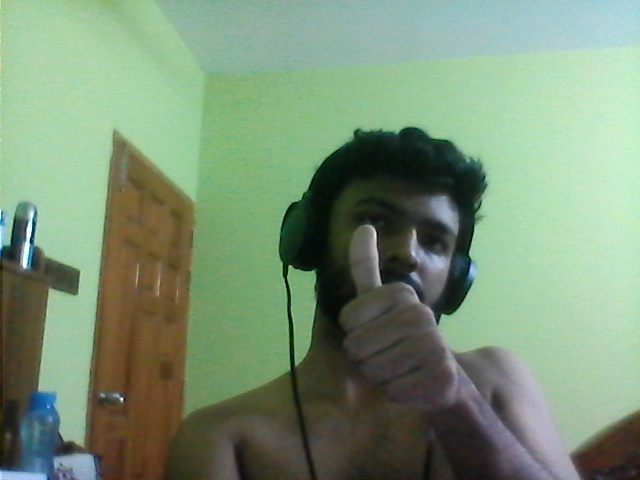Yes: (306, 225, 477, 418)
